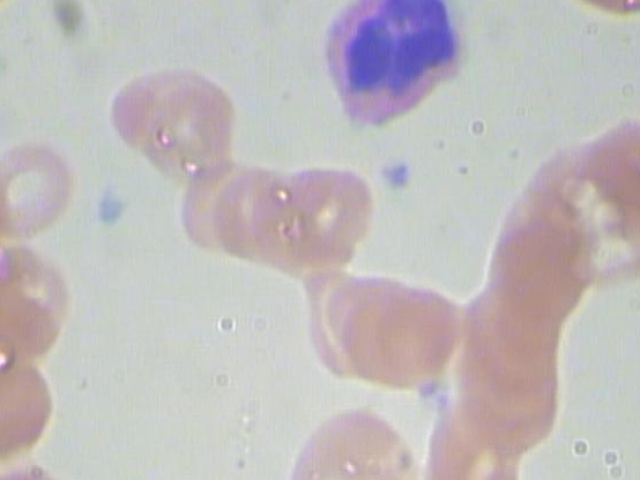Platelets: (379, 157, 415, 195), (90, 189, 126, 227)
RBC: (106, 66, 245, 185), (265, 395, 427, 480), (270, 151, 378, 272), (479, 210, 591, 320), (364, 274, 463, 382), (0, 240, 89, 350), (0, 122, 80, 241), (204, 166, 297, 261), (421, 396, 524, 480), (0, 353, 70, 462), (552, 0, 640, 30)
WBC: (309, 0, 475, 138)
